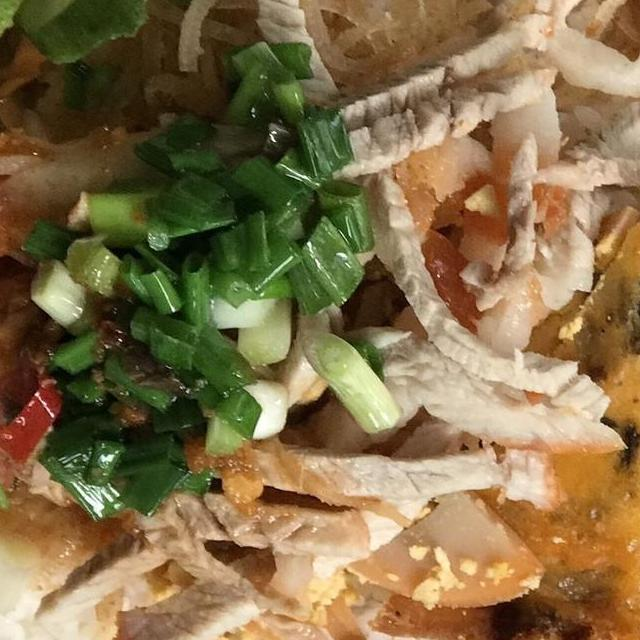bi: (257, 0, 630, 87)
cha: (354, 157, 640, 640)
com: (0, 507, 112, 640)
com suon bi cha trung: (0, 0, 640, 640)
suon: (298, 0, 636, 463), (66, 422, 571, 640), (481, 0, 640, 207), (228, 0, 354, 130)
